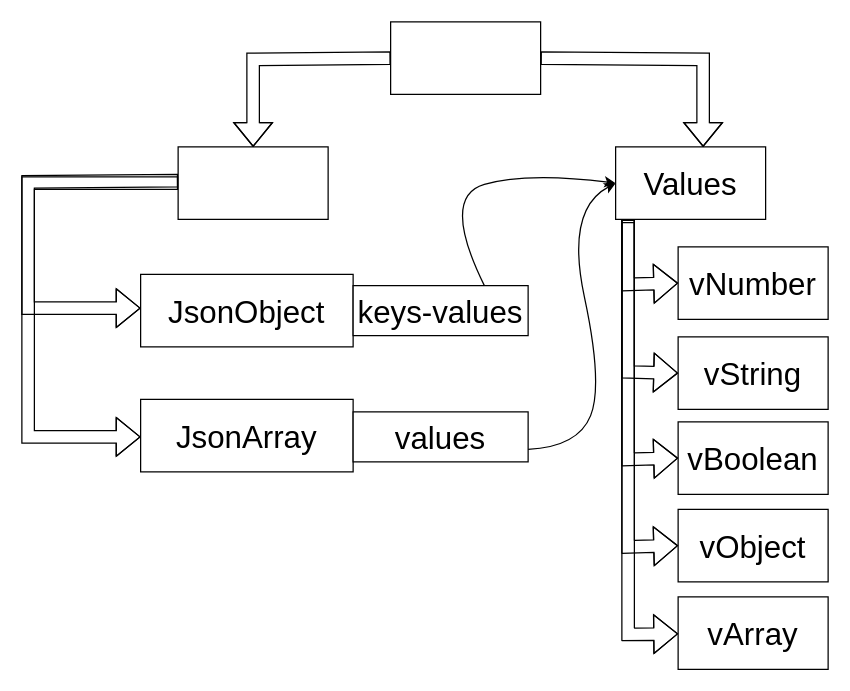
The diagram is 850 pixels wide and 691 high, and some of its shapes have lost their labels. The centre of each missing label's shape, as x and y in pixels:
"Objects" belongs at pixel 252 182.
"Rooter" belongs at pixel 465 57.
